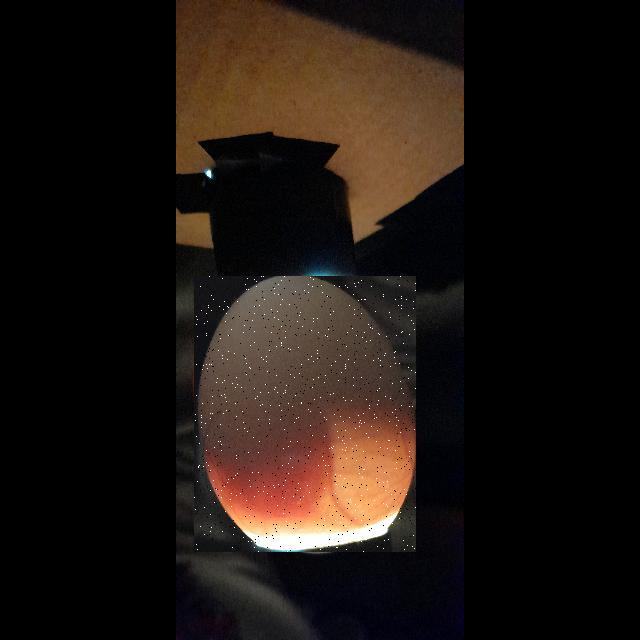Fertile: (194, 276, 416, 552)
